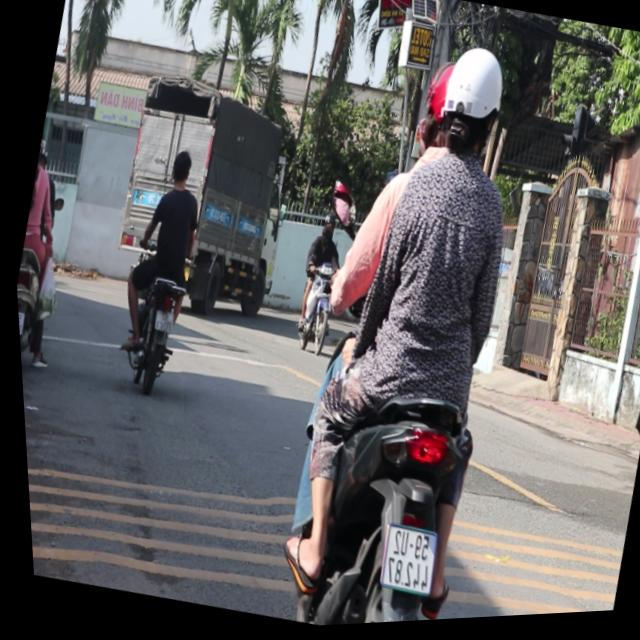helmet: (424, 43, 516, 172), (408, 64, 460, 167), (32, 130, 51, 170)
licenseplate: (228, 19, 577, 631), (94, 140, 223, 397), (6, 126, 94, 375)
motorcyclist: (166, 147, 196, 191)
nohelmet: (369, 526, 435, 601), (149, 311, 172, 334), (14, 309, 23, 333)
